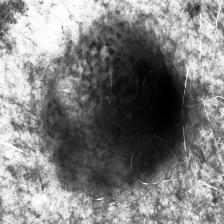Benign Marking or Mole: (110, 52, 190, 157)
